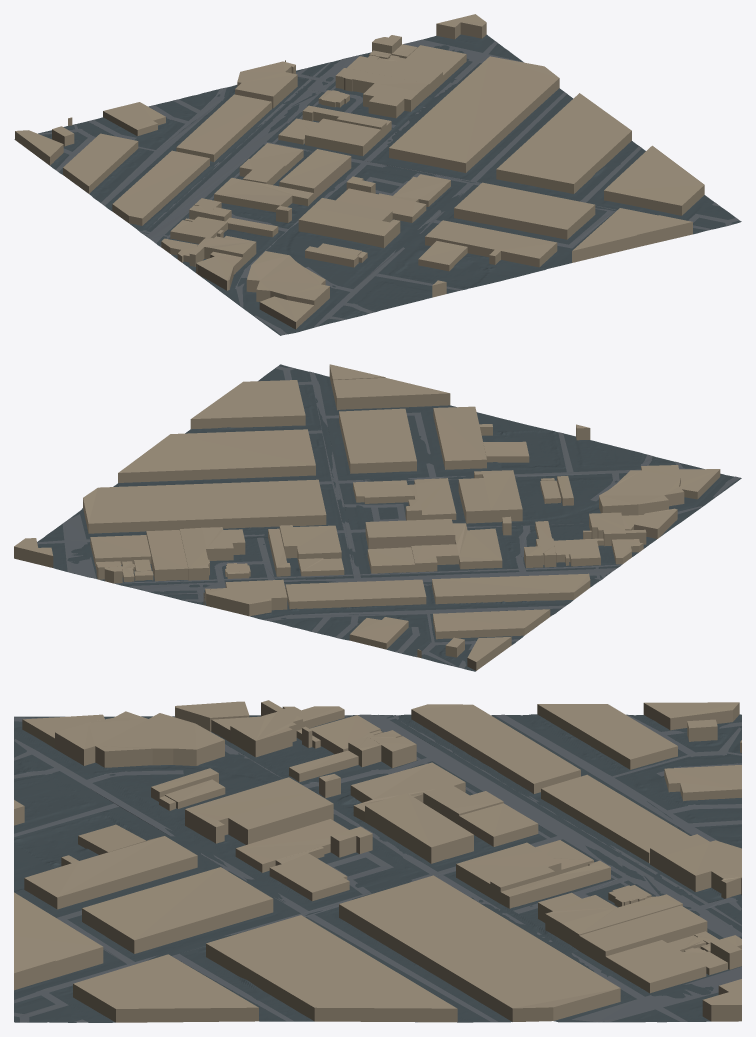
Rendered from epsg26910-1439-10878.lod0.glb.
3 views of the same model, one above another, from view 1: azimuth 30°, elevation 25°; view 2: azimuth 150°, elevation 25°; view 3: azimuth 270°, elevation 25° (orthographic). The views are drawn at different scales.
Parts seen in each view (by area): view 1: epsg26910-1439-10878-lod0; view 2: epsg26910-1439-10878-lod0; view 3: epsg26910-1439-10878-lod0.
Part boxes in pixels (x1,y1,x2,y2): epsg26910-1439-10878-lod0: (14, 14, 741, 335); epsg26910-1439-10878-lod0: (14, 364, 741, 671); epsg26910-1439-10878-lod0: (14, 700, 741, 1022).
Size of the model in its own units: 384 by 12.02 by 384.
